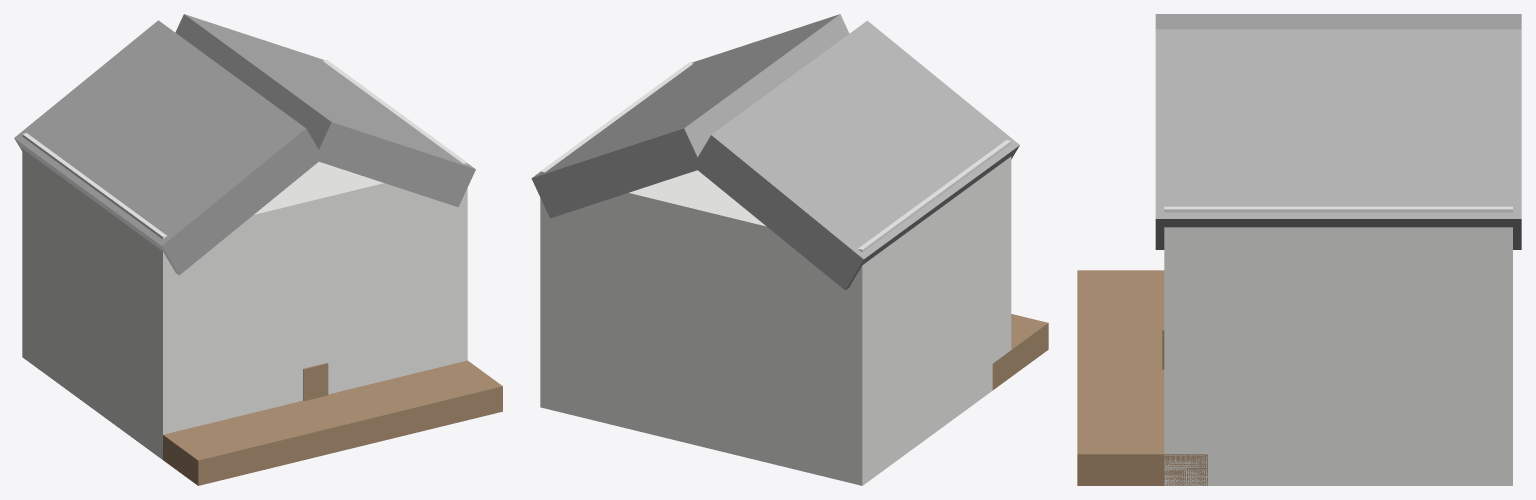
Rendered from mariners_home.glb.
3 views of the same model, side by side, from view 1: azimuth 30°, elevation 25°; view 2: azimuth 150°, elevation 25°; view 3: azimuth 270°, elevation 25° (orthographic). The views are drawn at different scales.
Visible parts, largest first — view 1: body, roof1, porch, roof2, door; view 2: body, roof1, roof2, porch; view 3: body, roof2, porch, roof1.
Boxes of the visible parts, x1,y1,x2,y2 form: body: (22, 60, 467, 459); roof1: (14, 20, 323, 275); porch: (161, 360, 502, 485); roof2: (175, 14, 475, 207); door: (303, 363, 328, 401); body: (540, 62, 1011, 485); roof1: (693, 20, 1019, 290); roof2: (531, 14, 849, 218); porch: (992, 314, 1048, 390); body: (1164, 206, 1512, 485); roof2: (1155, 29, 1521, 249); porch: (1077, 270, 1207, 485); roof1: (1155, 14, 1521, 29).
Size of the model in its own units: 10.31 by 9.42 by 10.2.
